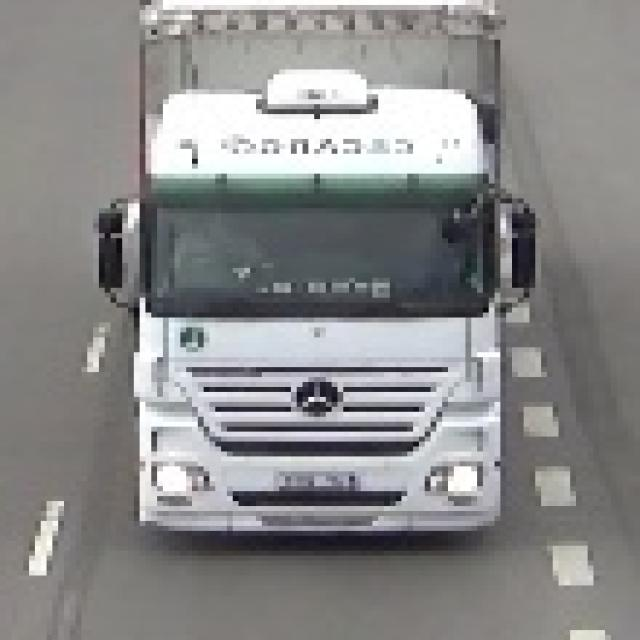TRUCK: (93, 0, 524, 556)
